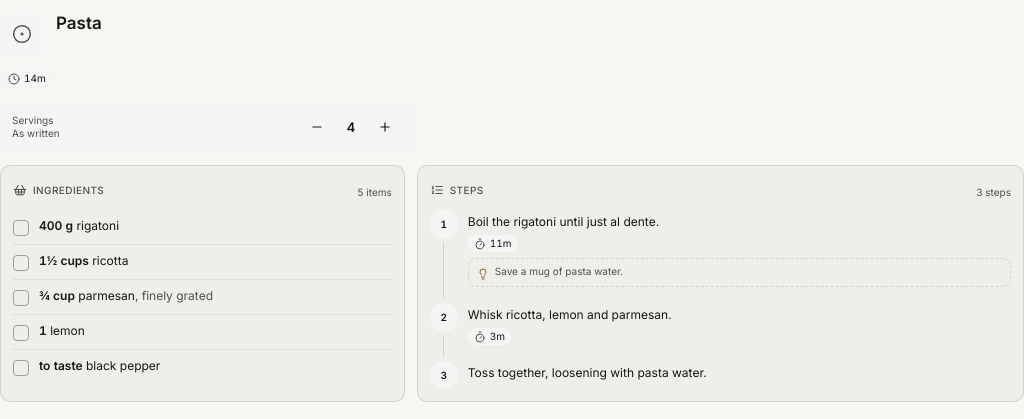
Test: recipe: ticks › ticks steps into a new done array and ingredients locally
Click the checkbox named "Step 2".
click(444, 317)  # box [430,303,458,331]
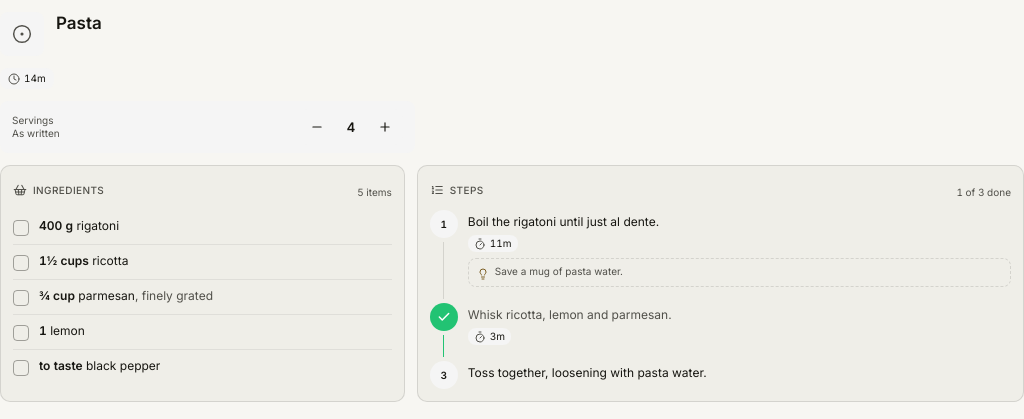
Click the checkbox named "Step 1".
click(444, 224)  # box [430,210,458,238]
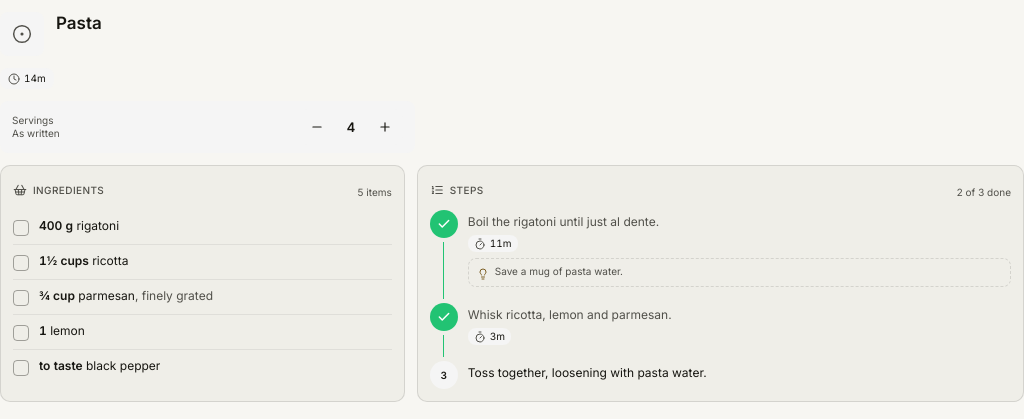
Now the text "2 of 3 done" is shown, box [956,186,1011,198]
Click the checkbox named "Step 2".
click(444, 317)  # box [430,303,458,331]
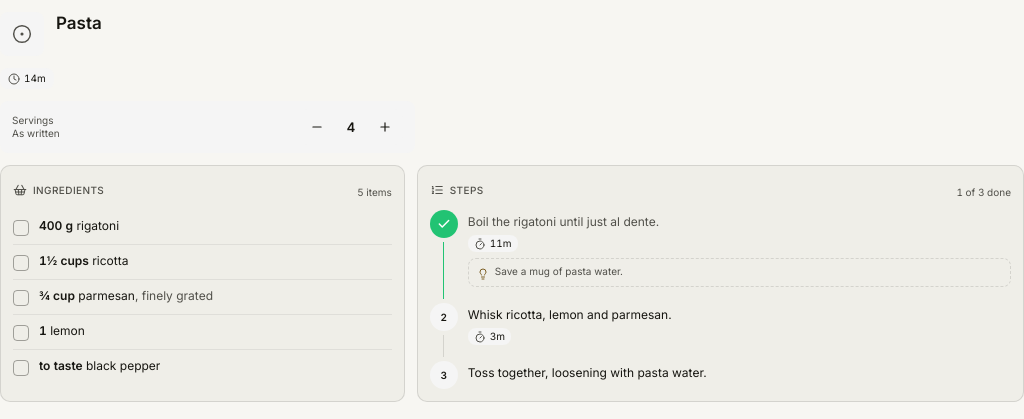
Click the checkbox labelled "1½ cups ricotta".
click(64, 260)  # box [13,245,392,279]
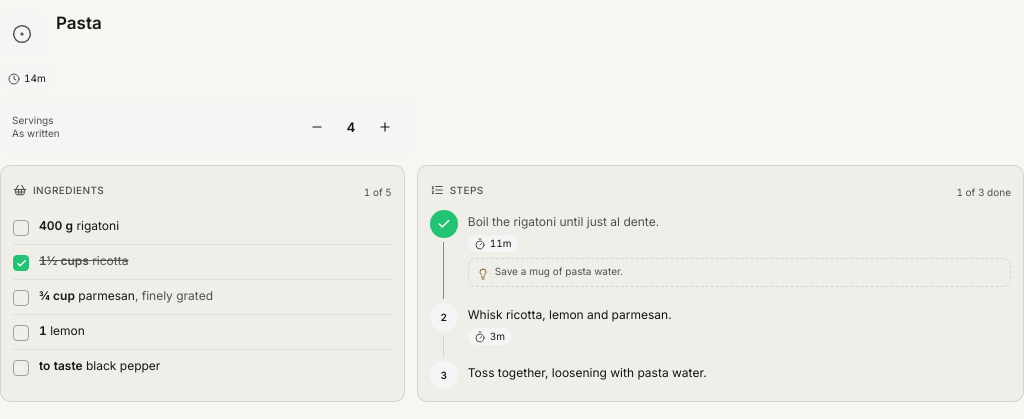
Now the text "1 of 5" is shown, box [364,186,392,198]
